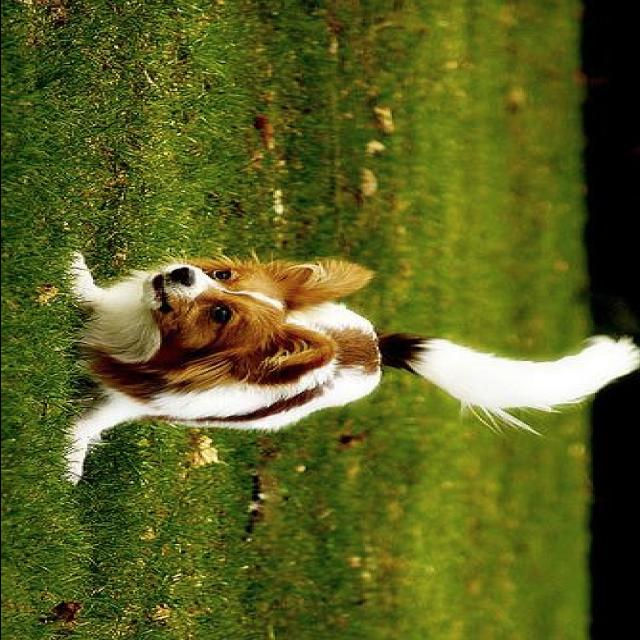papillon: (58, 247, 640, 488)
